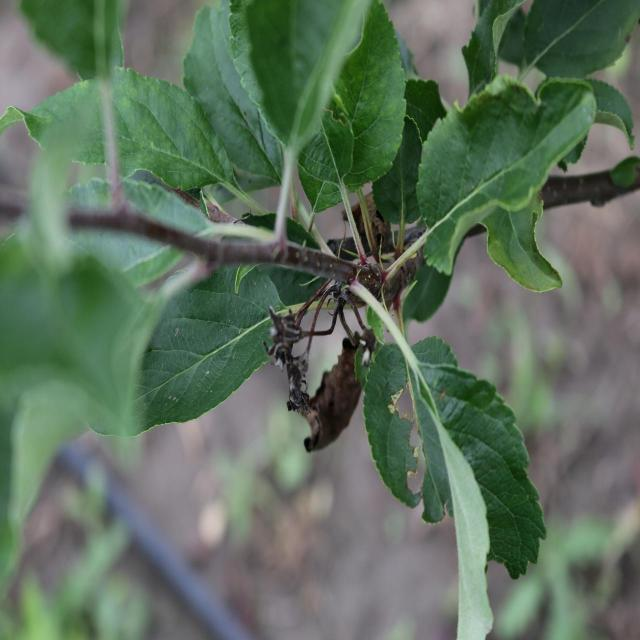-FireBlight-: (259, 271, 386, 473)
